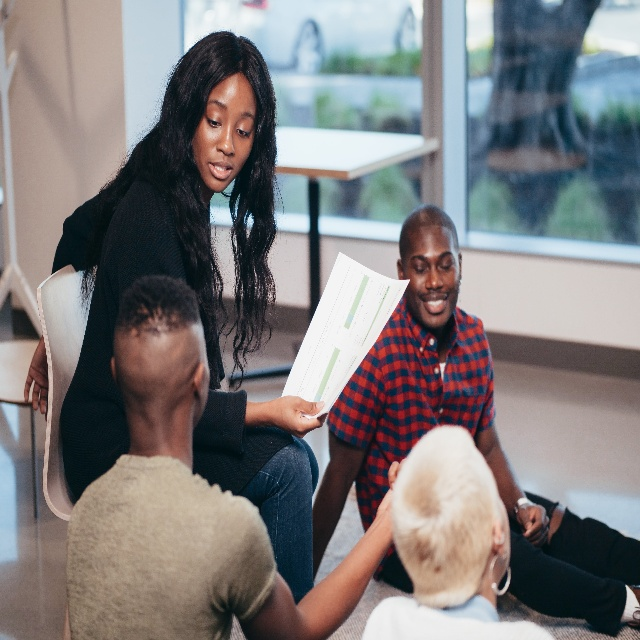Sin_guantes: (23, 332, 49, 409), (269, 394, 327, 426), (518, 501, 548, 546)
